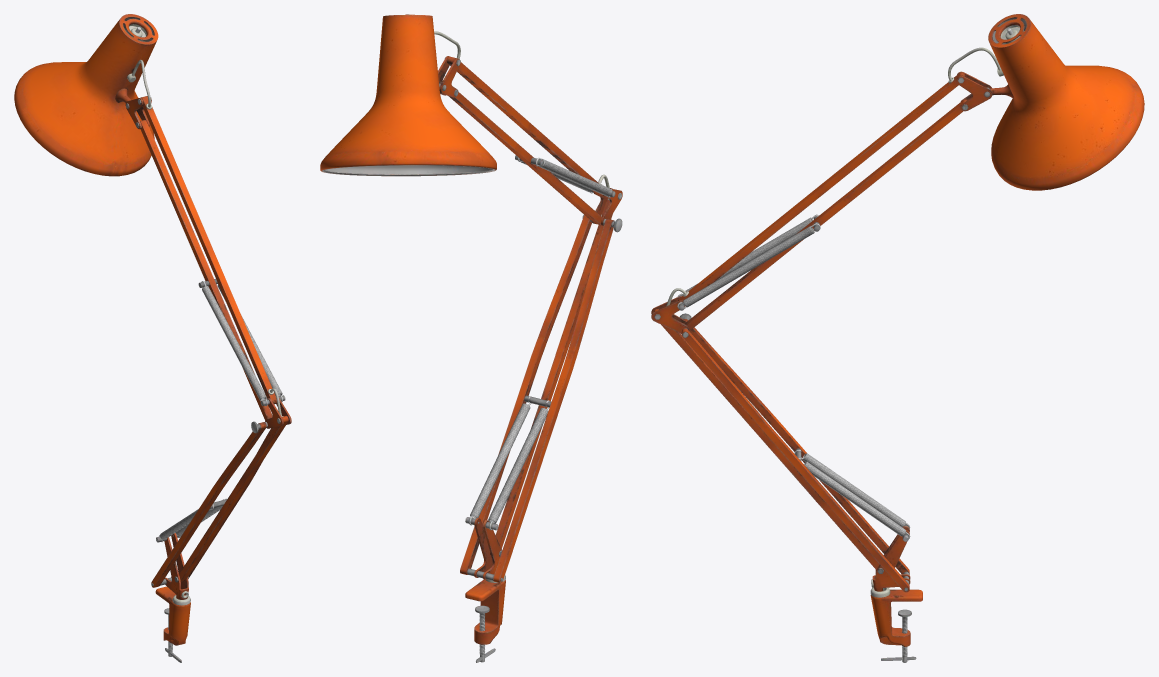
The model's file is desk_lamp_arm_01.glb.
The picture shows the model from 3 angles, left to right: view 1: azimuth 30°, elevation 25°; view 2: azimuth 150°, elevation 25°; view 3: azimuth 270°, elevation 25°; orthographic projection. The views are drawn at different scales.
Parts seen in each view (by area): view 1: desk_lamp_arm_01; view 2: desk_lamp_arm_01; view 3: desk_lamp_arm_01.
Part boxes in pixels (left/top/right/bottom): desk_lamp_arm_01: left=14, top=14, right=291, bottom=662; desk_lamp_arm_01: left=320, top=14, right=622, bottom=662; desk_lamp_arm_01: left=651, top=14, right=1144, bottom=662.
Size of the model in its own units: 0.2017 by 0.8926 by 0.6139.
2 materials, 2 textured.
